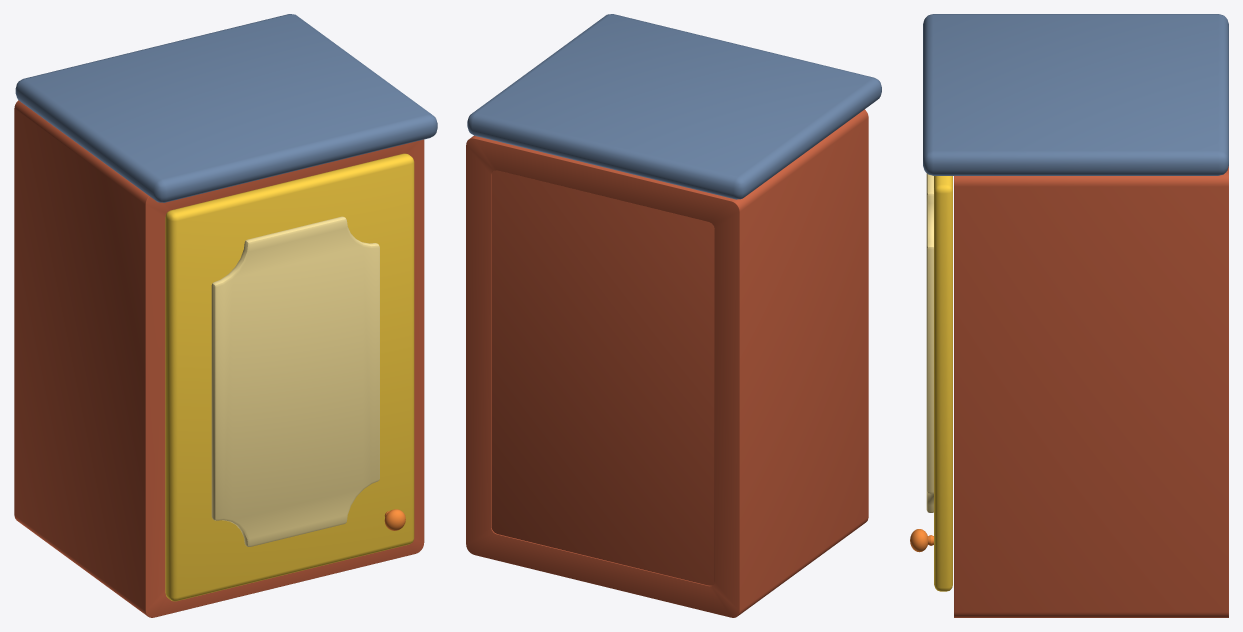
The model's file is armario_parede_1porta_classica.glb.
The picture shows the model from 3 angles, left to right: view 1: azimuth 30°, elevation 25°; view 2: azimuth 150°, elevation 25°; view 3: azimuth 270°, elevation 25°; orthographic projection. The views are drawn at different scales.
Visible parts, largest first — view 1: armario_parede_1porta_classica, porta_1; view 2: armario_parede_1porta_classica; view 3: armario_parede_1porta_classica, porta_1.
Boxes of the visible parts, x1,y1,x2,y2 form: armario_parede_1porta_classica: (14, 14, 437, 617); porta_1: (165, 153, 414, 601); armario_parede_1porta_classica: (466, 14, 881, 617); armario_parede_1porta_classica: (923, 14, 1228, 617); porta_1: (910, 173, 952, 591).
Bounding box in the file's own units: 0.398 × 0.6 × 0.3711.
Materials: 1 (1 with a texture image).
